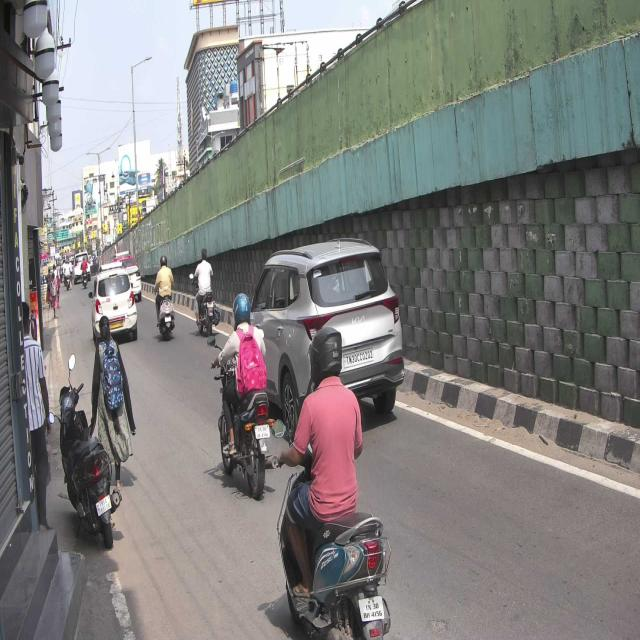single_rider: (280, 322, 391, 640), (220, 290, 274, 500)
